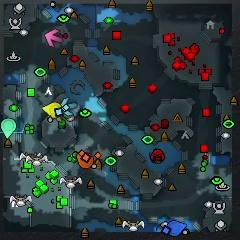p1: (167, 220, 187, 238)
p2: (0, 117, 17, 138)
p4: (43, 103, 61, 116)
p5: (74, 152, 94, 169)
x1: (45, 29, 62, 46)
x3: (62, 98, 76, 116)
